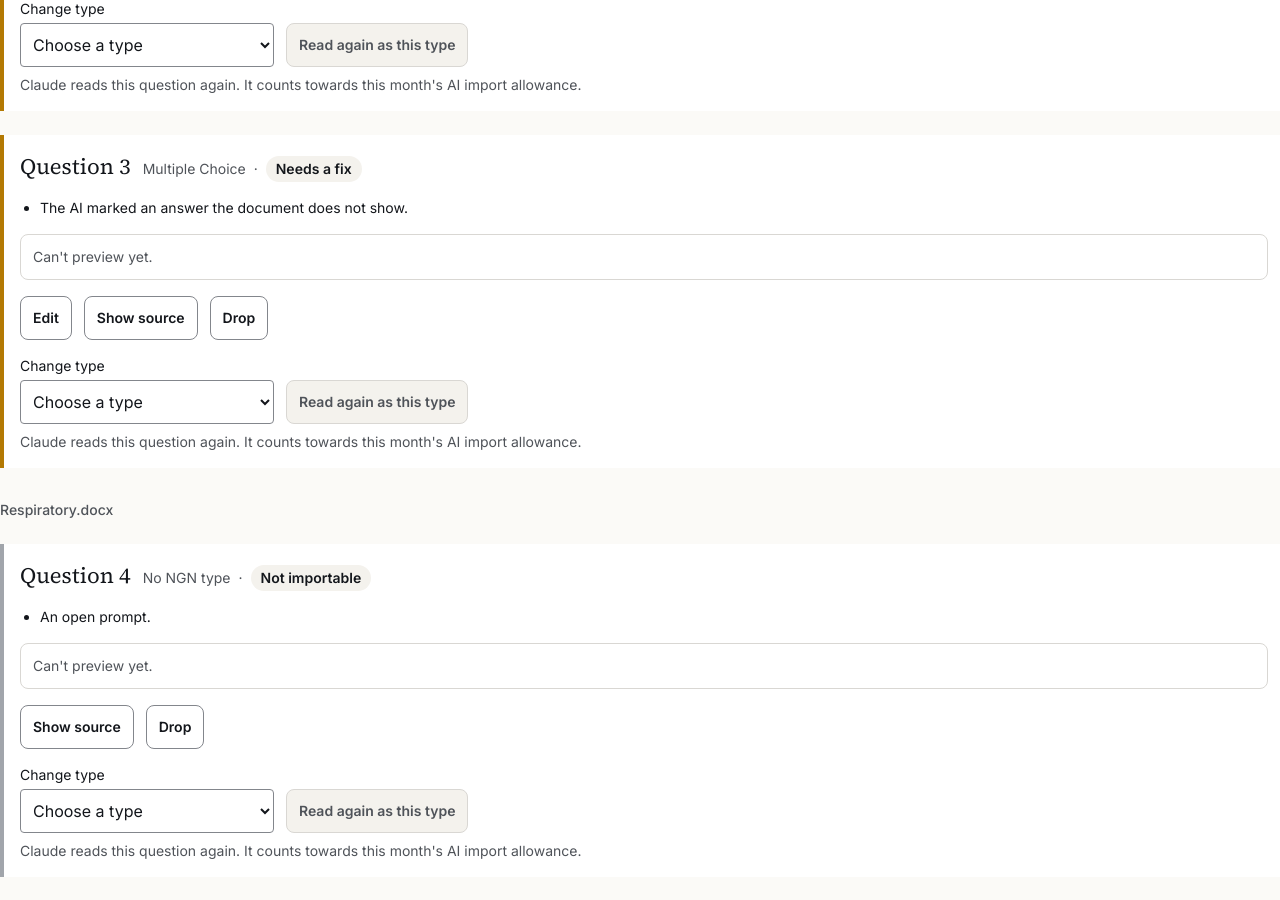
Test: AiImportReview (#346) › names a failed change of type
This screenshot has width=1280, height=900.
(page scrolled)
Select "Bowtie" in the dropdown labelled "Change type" below "Question 3" at (147, 402), box [20,380,274,424]
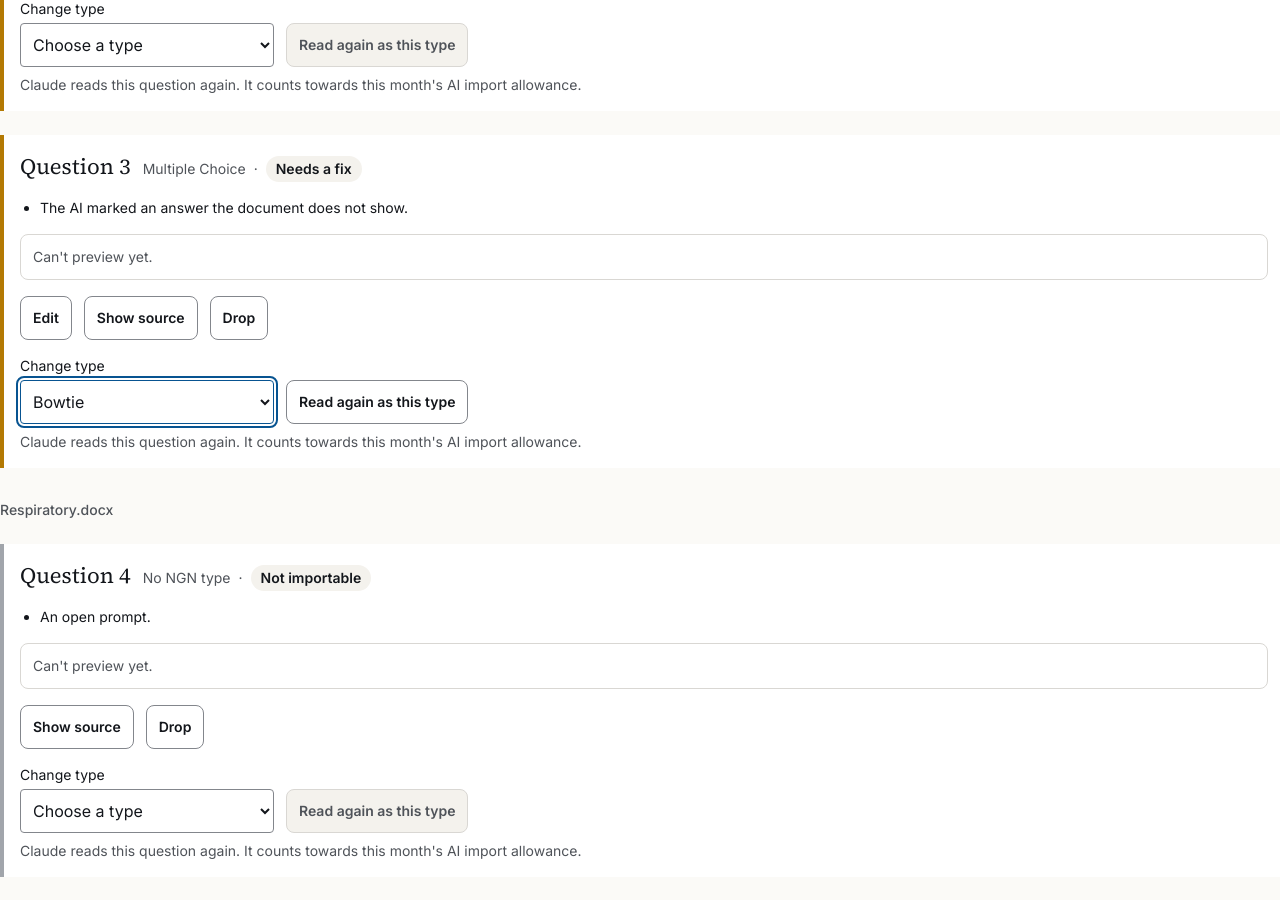
Click the button "Read again as this type" below "Question 3" at (377, 402), box [286,380,468,424]
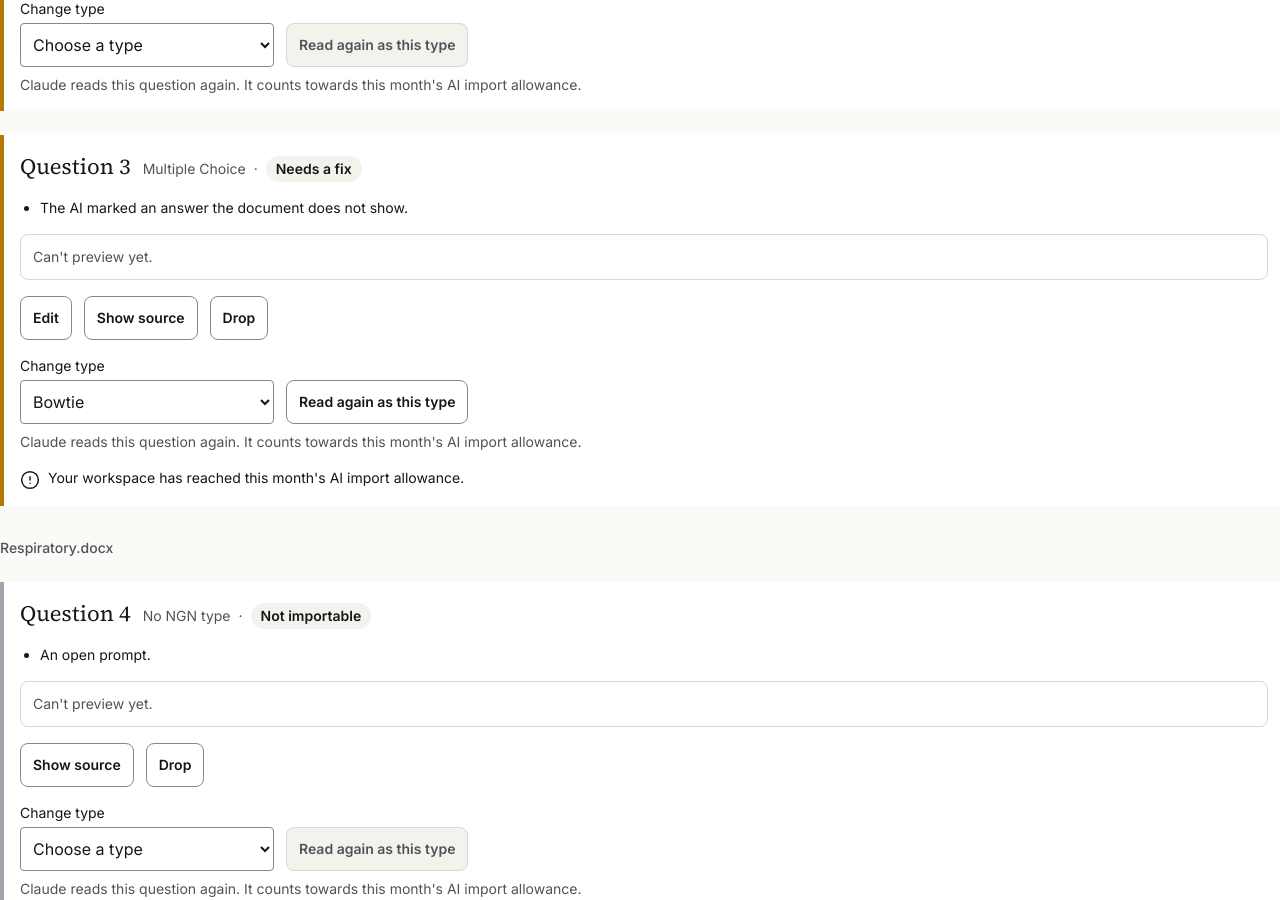
Check: the message shows "allowance", box [48,470,464,486]
